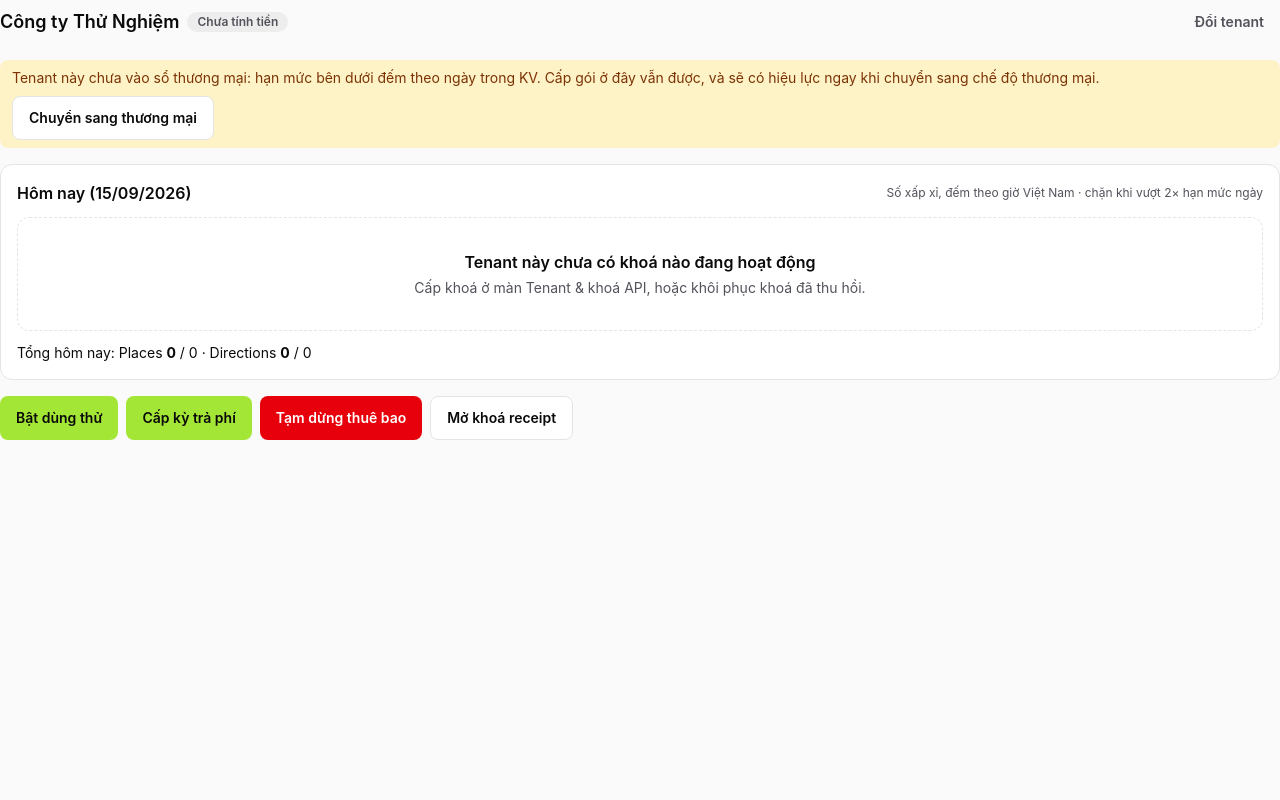
Test case: BillingPage › tenant legacy: chỉ đọc /usage KHI mở hộp thoại lệnh, không phải lúc mở màn hình
Expected: the heading "Hôm nay (15/09/2026)" is shown, [17, 181, 191, 205]
Click the button "Bật dùng thử". click: (59, 418)
box: [0, 396, 118, 440]
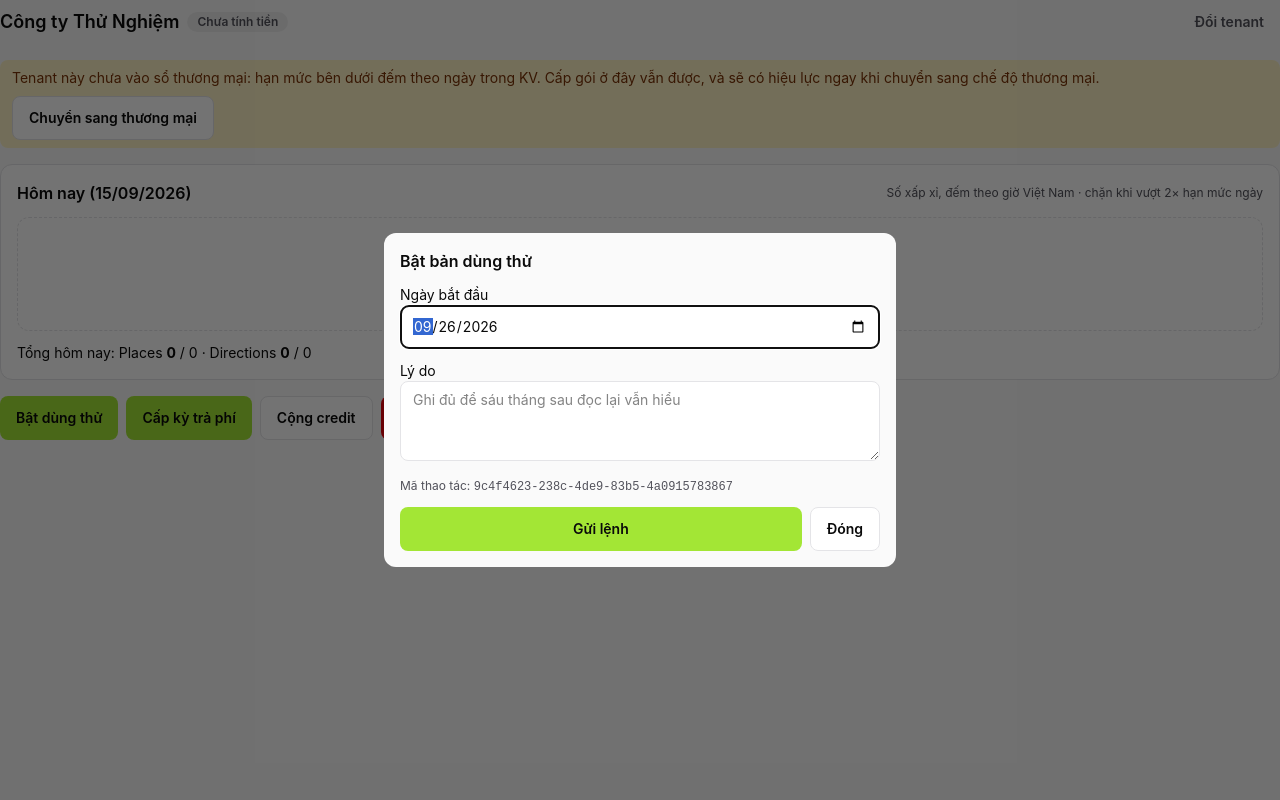
Expected: the text box labelled "Lý do" is shown, [400, 381, 880, 461]
